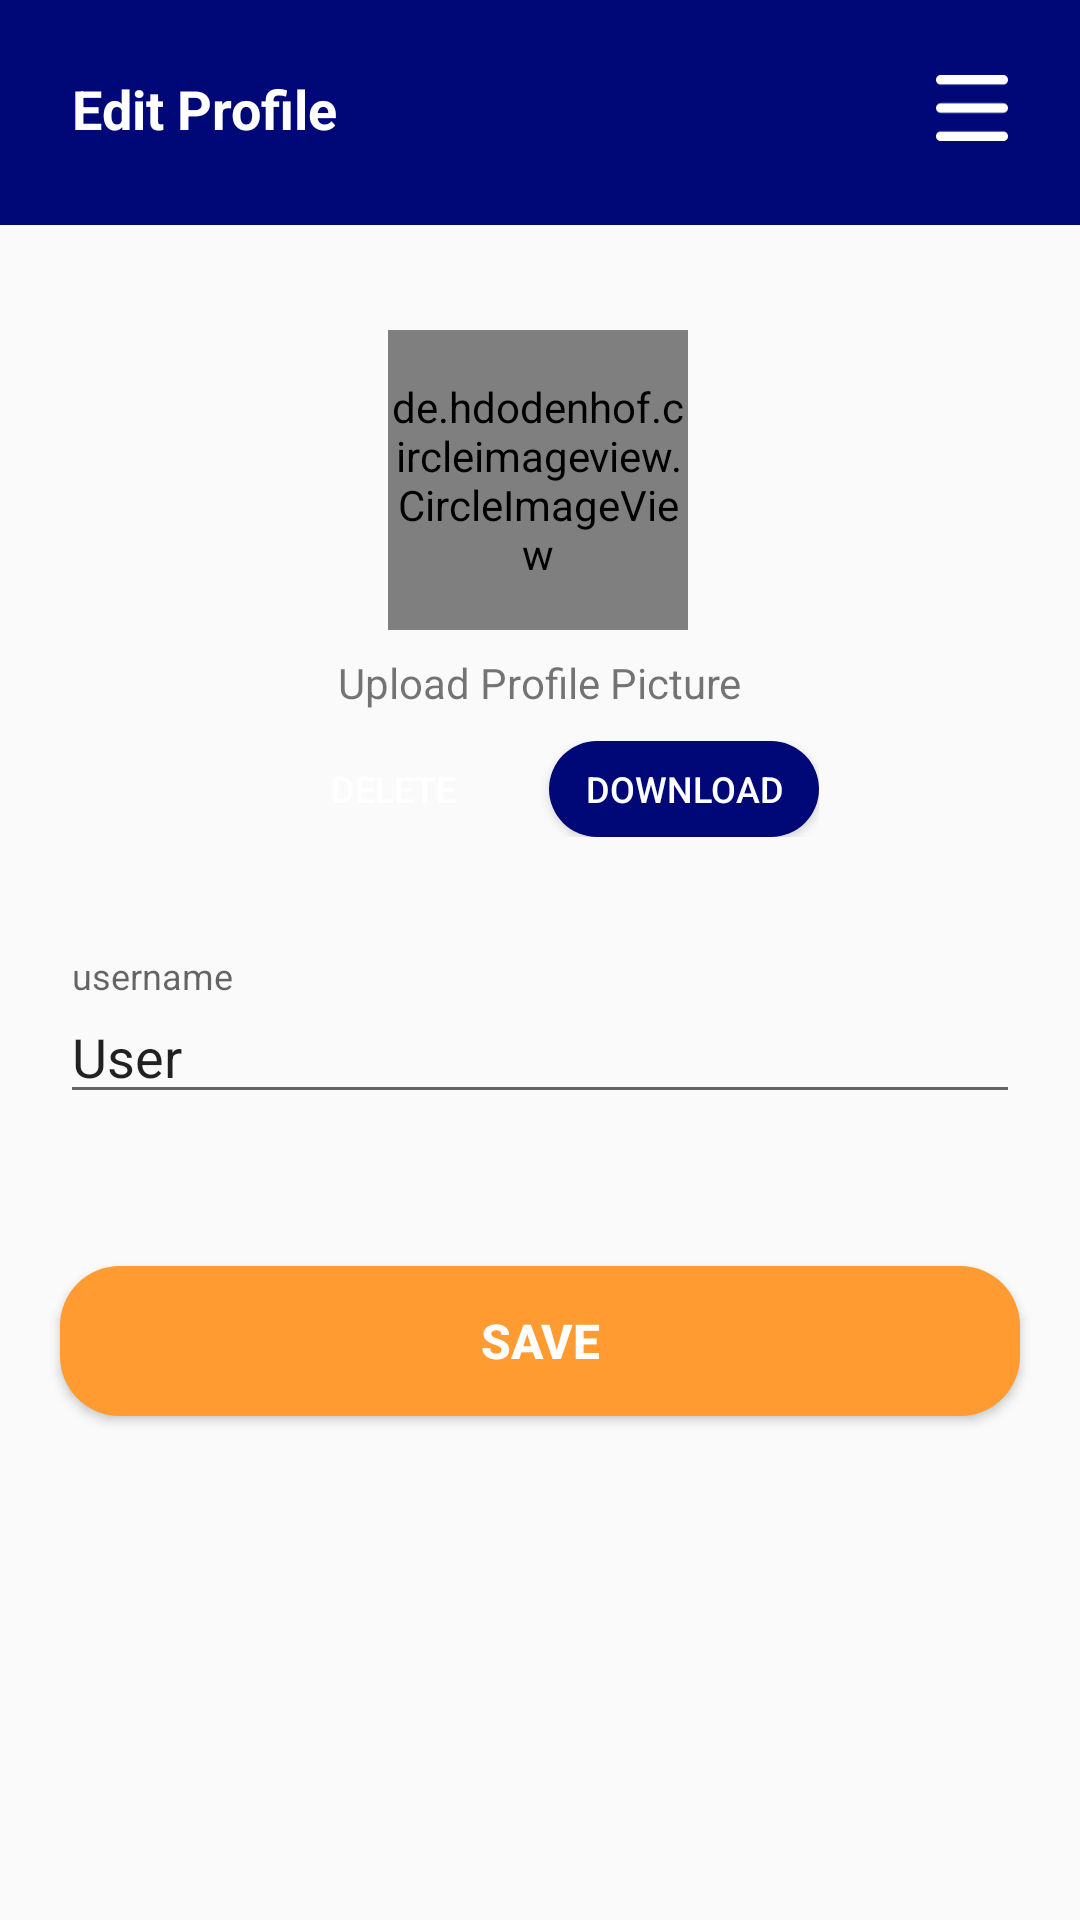

Icons on this 1080px x 1920px Android screen, each with its box as (x1, y1, x2, y2):
Menu: (936, 75, 1008, 141)
